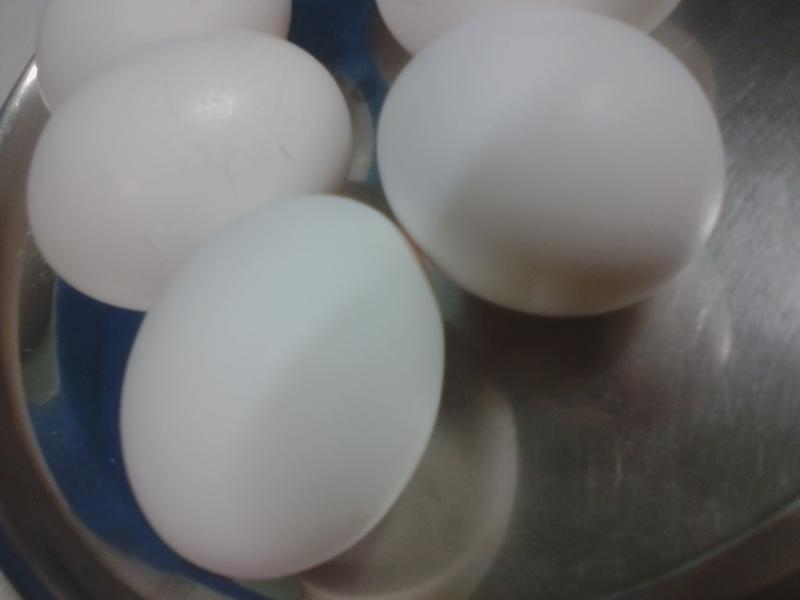egg: (119, 198, 442, 571)
